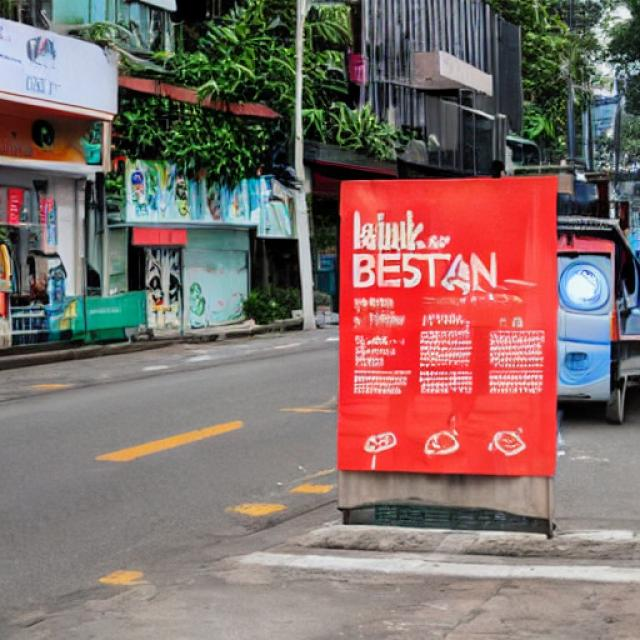Billboard: (338, 170, 562, 484)
